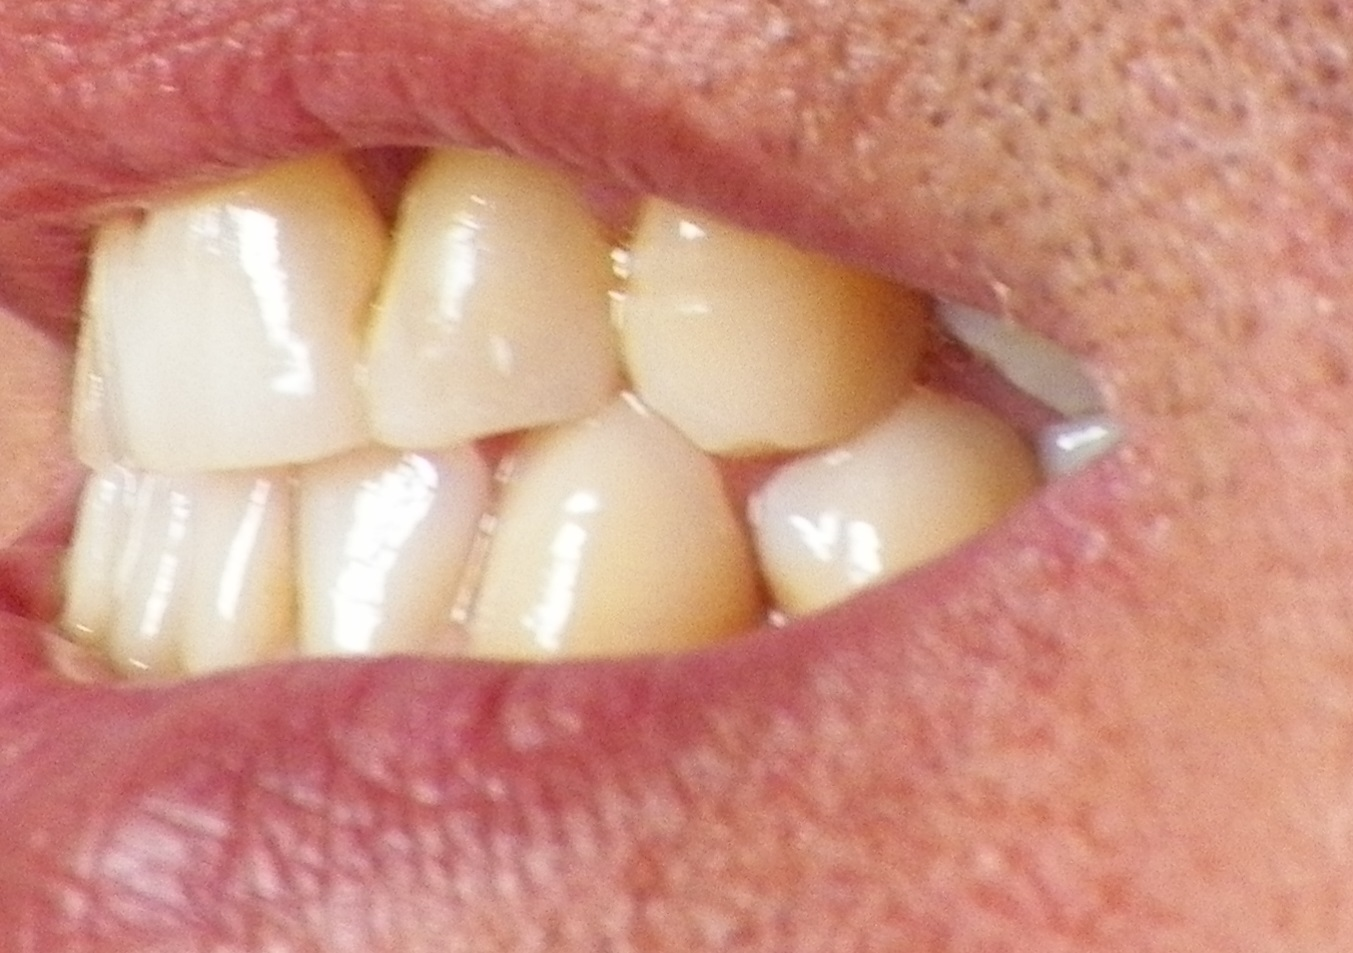boca: (51, 146, 1036, 658)
